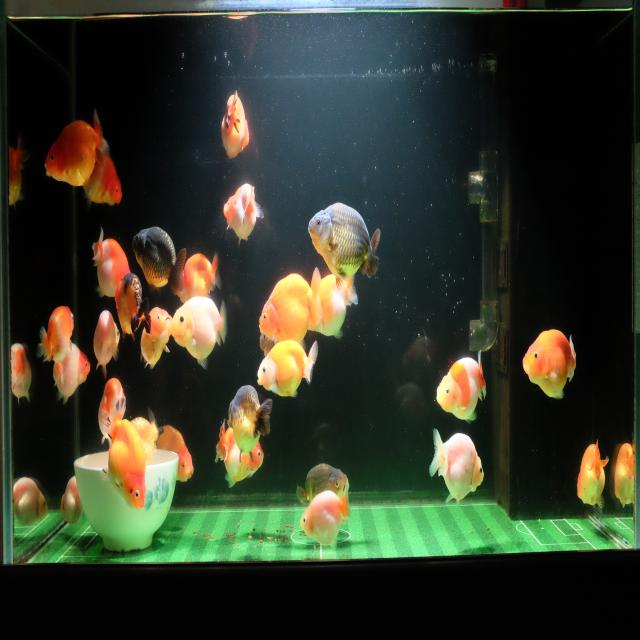Goldfish: (308, 198, 382, 295), (43, 110, 111, 200), (100, 394, 148, 516), (258, 264, 322, 348), (428, 428, 486, 510), (169, 296, 228, 371), (521, 327, 578, 402), (131, 225, 188, 300), (435, 349, 488, 426), (256, 337, 320, 400), (307, 270, 359, 342), (227, 382, 272, 465), (214, 422, 266, 492), (298, 484, 351, 552), (222, 180, 265, 252), (296, 459, 351, 515), (90, 227, 132, 300), (114, 273, 153, 346), (50, 340, 90, 409), (96, 372, 128, 456), (36, 298, 74, 368), (137, 304, 173, 376), (177, 251, 223, 307), (576, 438, 610, 512), (156, 422, 194, 486), (13, 468, 49, 532), (81, 156, 126, 207), (219, 91, 251, 162), (92, 306, 120, 382), (57, 466, 86, 530), (9, 338, 34, 408), (130, 411, 162, 464), (613, 440, 634, 512)
